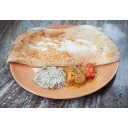dosa: (7, 28, 121, 66)
